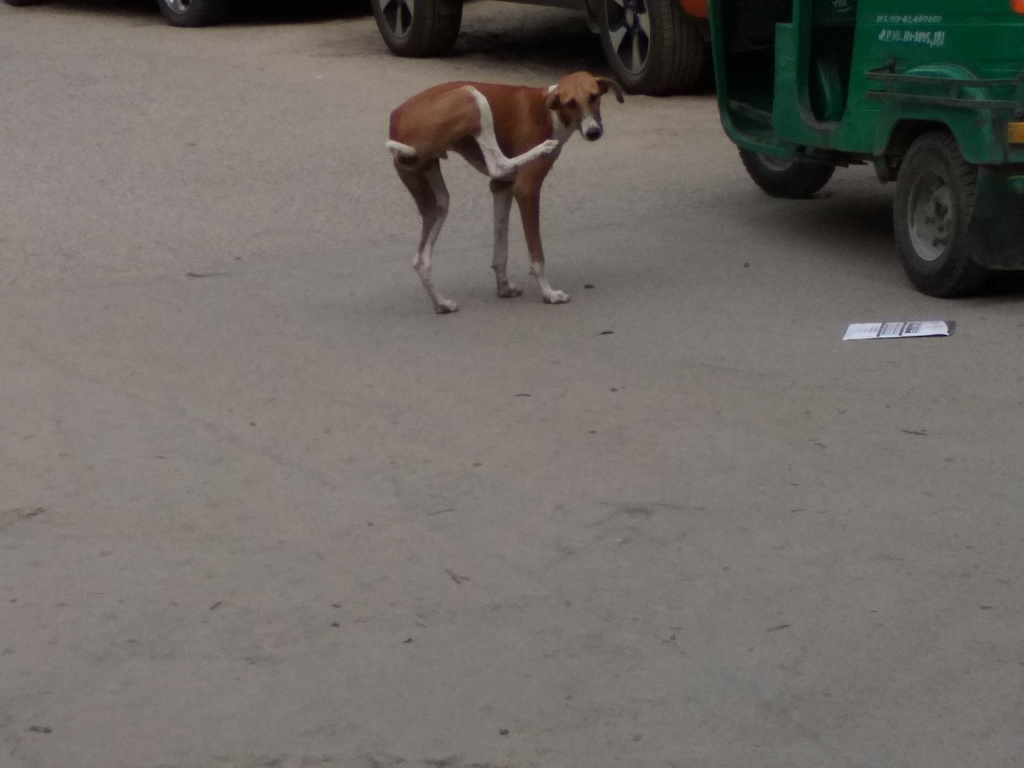dog: (386, 72, 625, 314)
